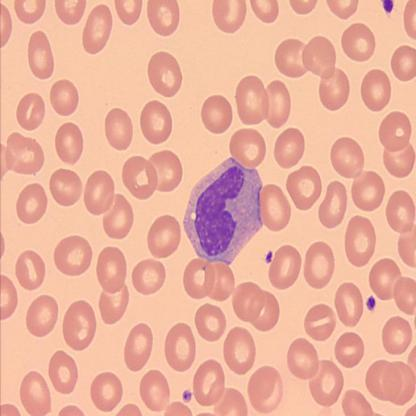Monocyte: (181, 154, 266, 266)
